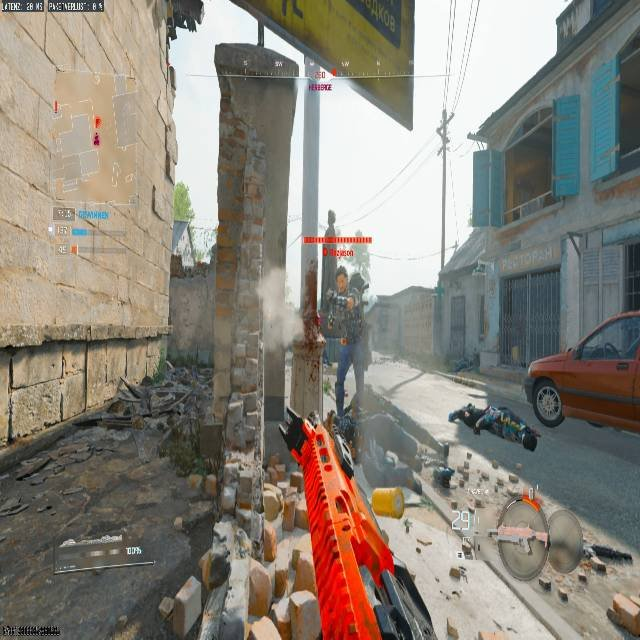head: (519, 426, 539, 450), (335, 265, 348, 291)
player: (324, 266, 377, 416), (332, 262, 369, 308)
